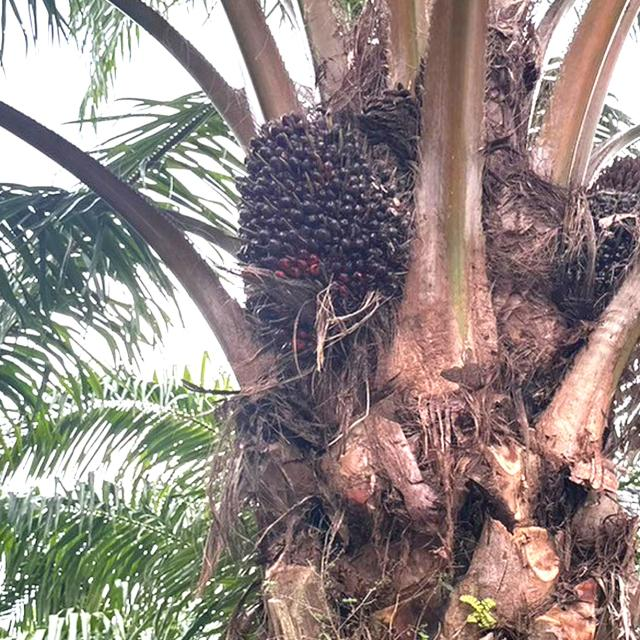ripe: (207, 94, 433, 362)
